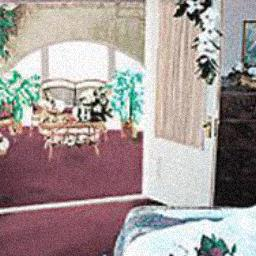Armario: (221, 89, 256, 206)
Puerta: (146, 0, 214, 207)
